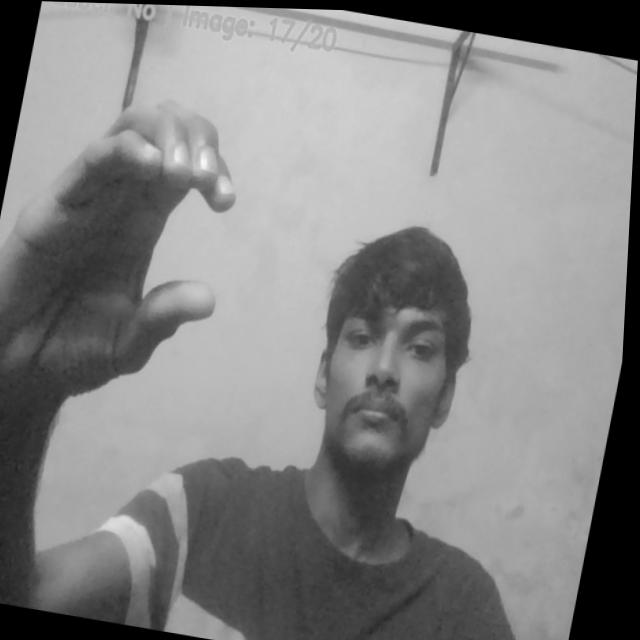No: (0, 76, 255, 441)
